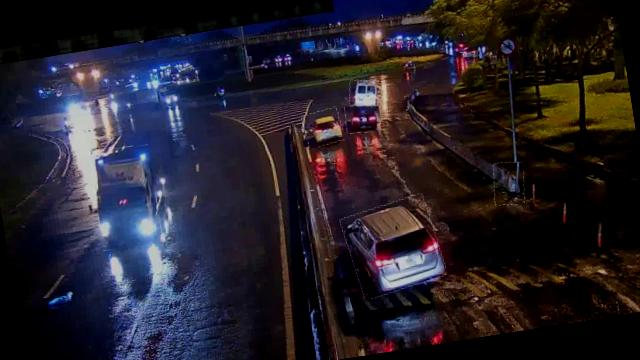Bike: (490, 159, 527, 206)
Bus: (348, 76, 384, 108)
Car: (341, 195, 446, 298), (301, 106, 344, 148), (344, 102, 382, 135)
Truck: (88, 142, 164, 250)
